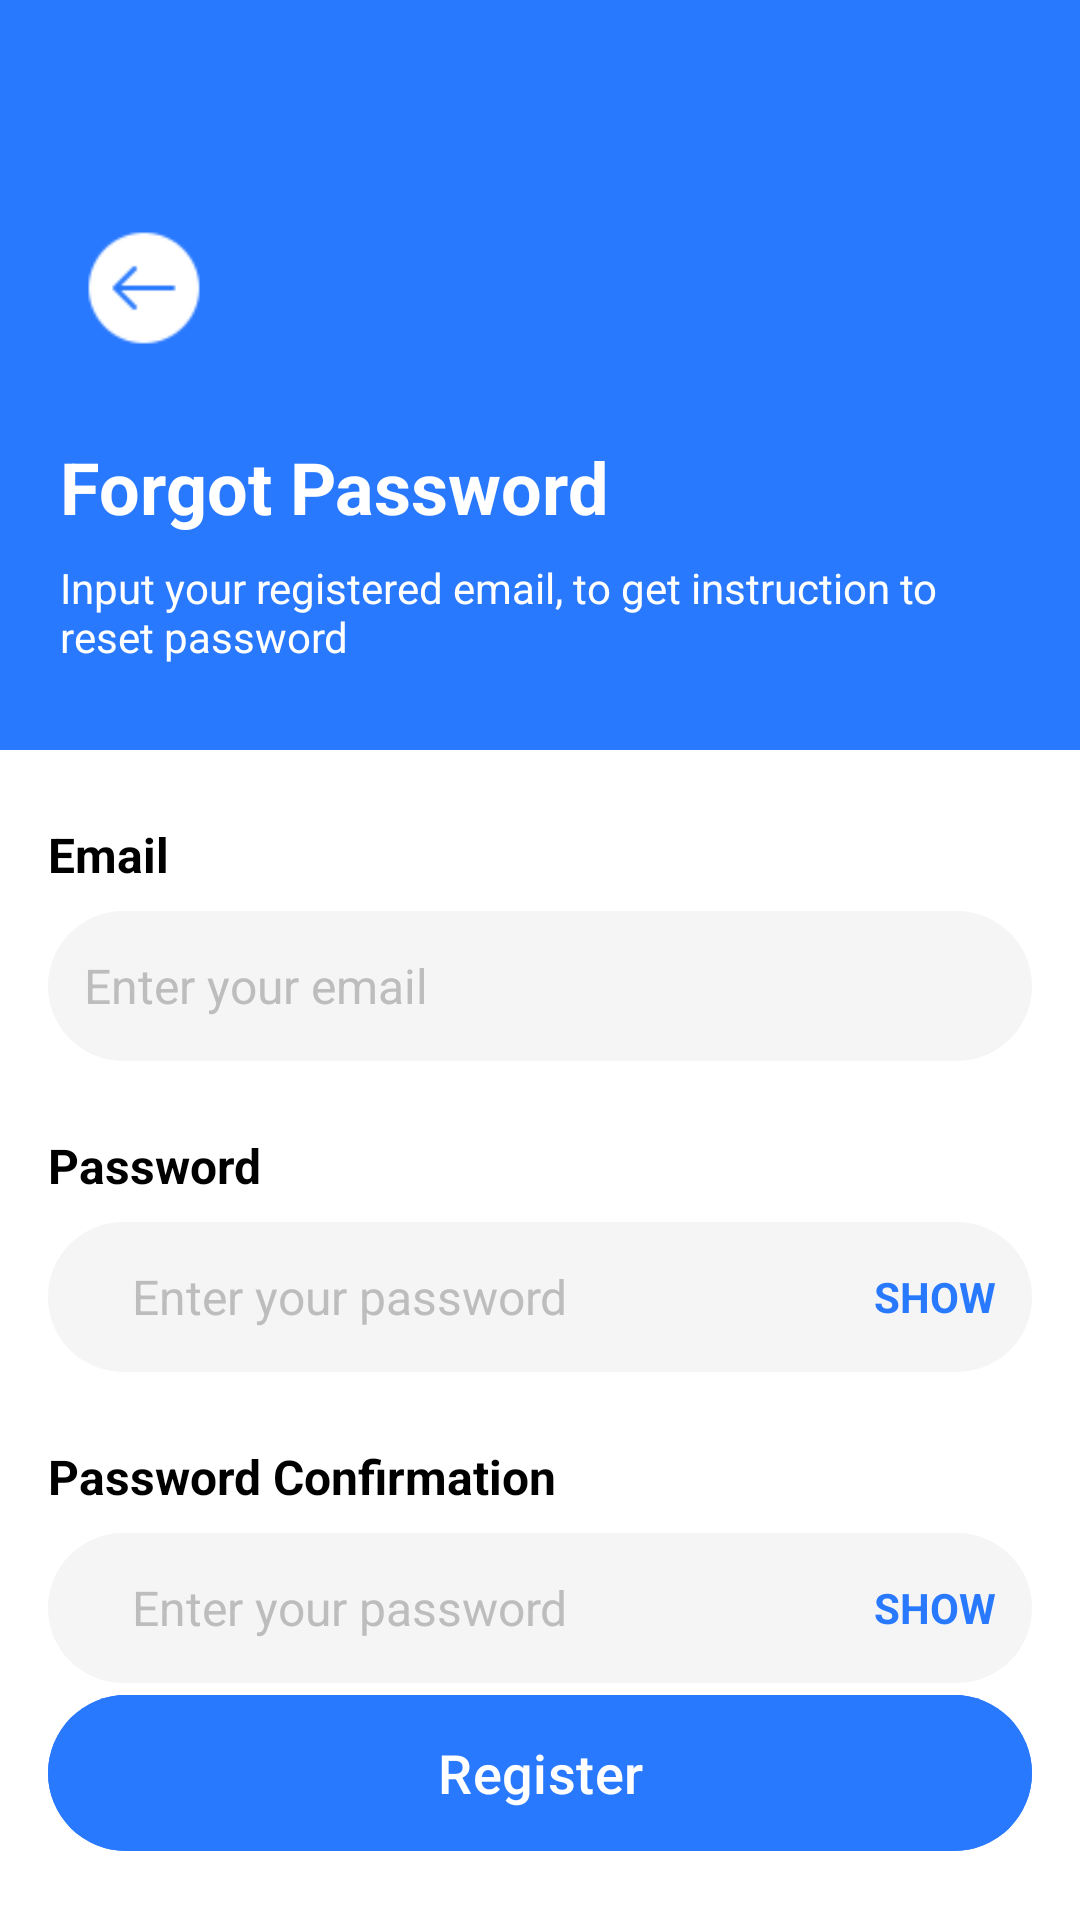

Icon bounding boxes for this 1080×1920 phone screenshot, format bbox(x1, y1, x2, y2):
Back: bbox(88, 232, 200, 344)
